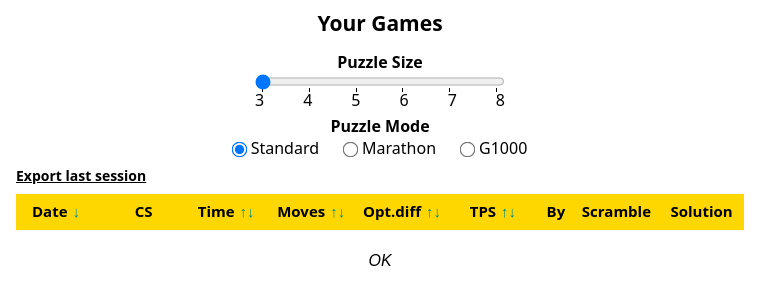
Test: GamesTable › sorting › toggles the real moves sort direction on repeated desktop clicks
Expected: the element with class "buttons" is shown, [330,245,430,277]
Click the text "↑↓" next to "Moves": (338, 211) [330,201,345,221]
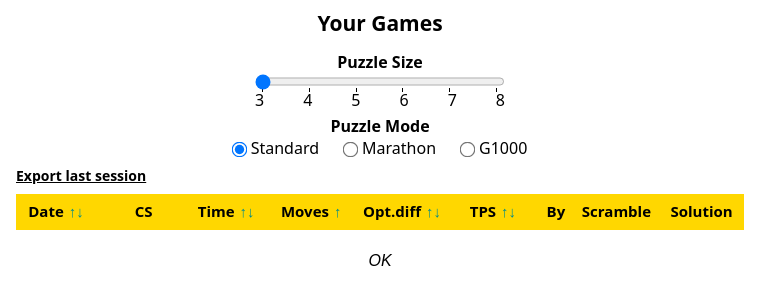
Expected: the text "↑" is shown
Click the text "↑": (338, 211) [334,201,342,221]
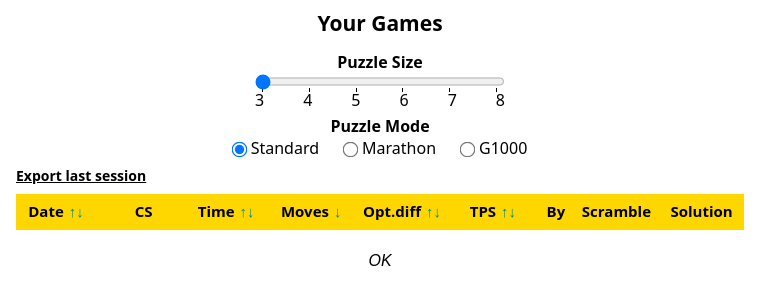
Expected: the text "↓" is shown, [334,201,342,221]
